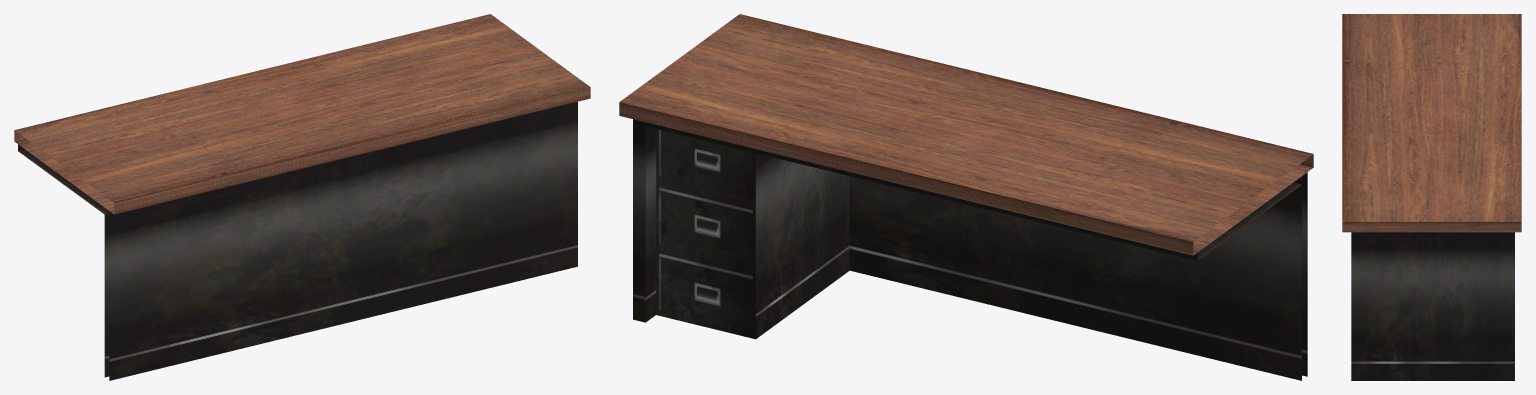
File: component_desk_right.fbx
The picture shows the model from 3 angles, left to right: view 1: azimuth 30°, elevation 25°; view 2: azimuth 150°, elevation 25°; view 3: azimuth 270°, elevation 25°; orthographic projection. The views are drawn at different scales.
Parts seen in each view (by area): view 1: mesh_0; view 2: mesh_0; view 3: mesh_0.
Part boxes in pixels (x1=…): mesh_0: x1=14, y1=14, x2=590, y2=380; mesh_0: x1=619, y1=14, x2=1313, y2=380; mesh_0: x1=1342, y1=14, x2=1521, y2=380.
Bounding box in the file's own units: 220 × 80 × 80.
Materials: 1 (1 with a texture image).
